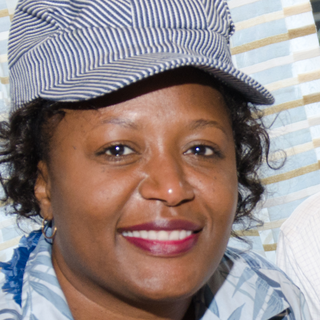eye: (86, 135, 145, 168), (171, 135, 225, 166)
